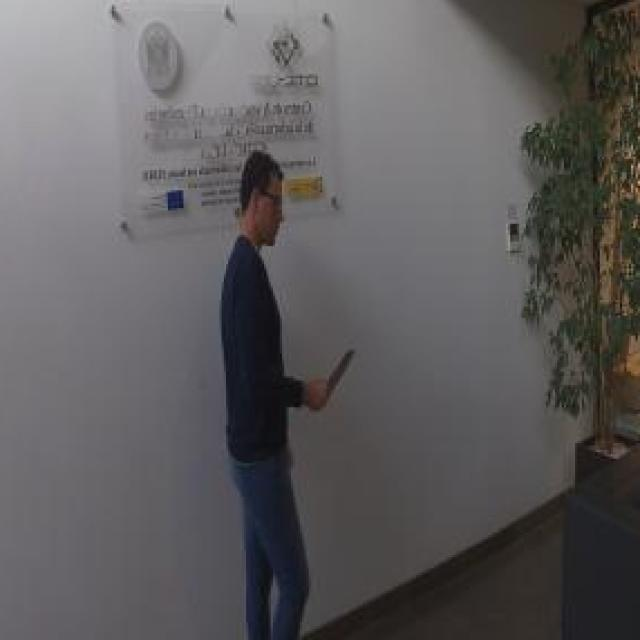knife: (310, 345, 358, 416)
